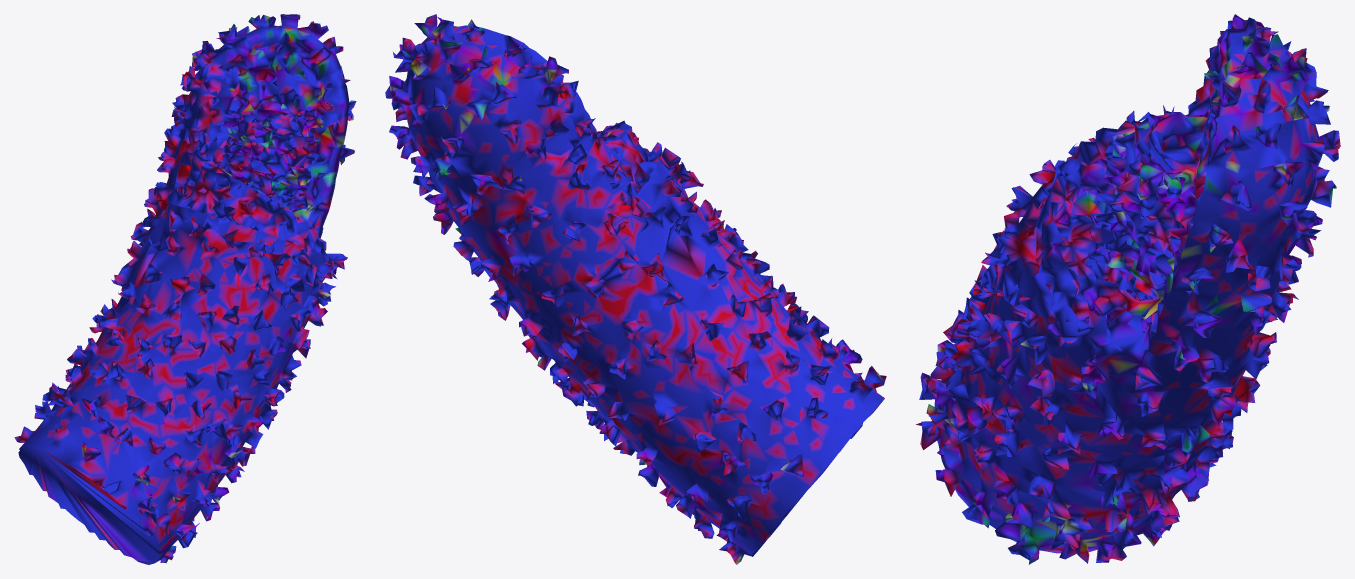
File: ebola-virion.glb
3 views of the same model, side by side, from view 1: azimuth 30°, elevation 25°; view 2: azimuth 150°, elevation 25°; view 3: azimuth 270°, elevation 25° (orthographic). The views are drawn at different scales.
Bounding box in the file's own units: 18.52 × 21.98 × 12.91.
